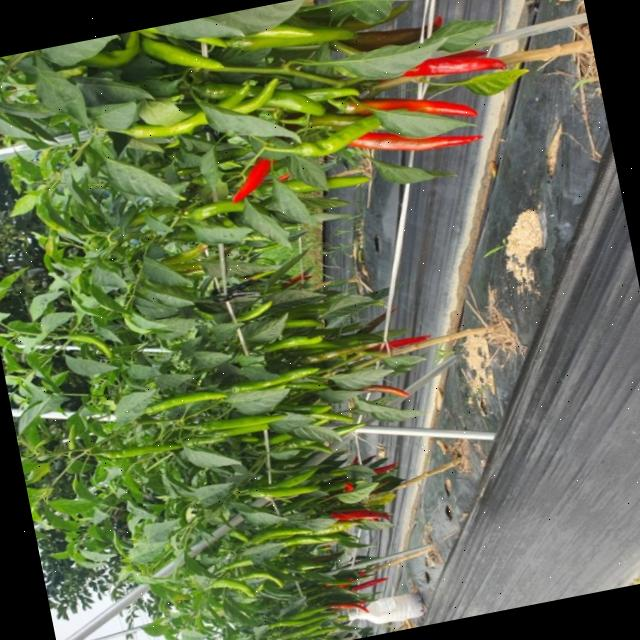chili: (330, 98, 477, 116), (350, 131, 482, 150), (403, 57, 505, 75), (233, 158, 271, 203), (370, 334, 429, 348), (330, 508, 389, 520), (361, 384, 409, 397)
